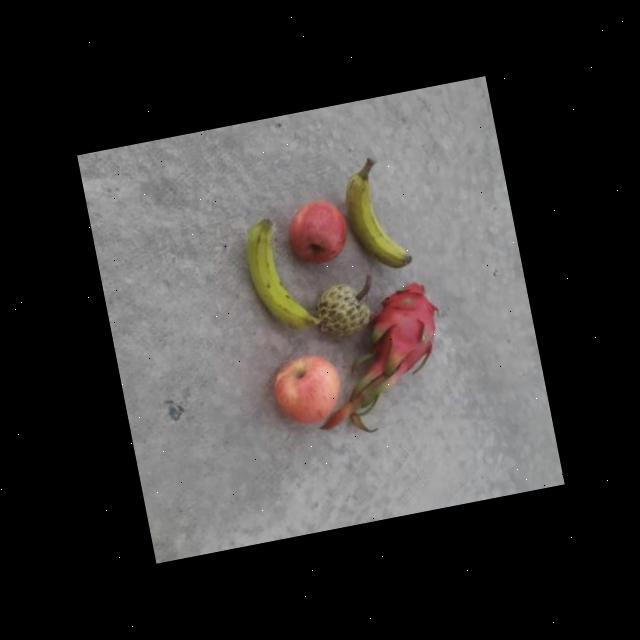Sakya fruit: (310, 281, 374, 342)
apple: (264, 351, 344, 428), (284, 194, 352, 268)
banana: (240, 212, 322, 340), (336, 160, 418, 278), (361, 276, 447, 370)
